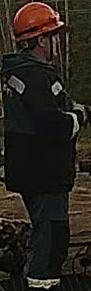gloves: (72, 99, 87, 129)
helmet: (11, 1, 64, 42)
vest: (0, 55, 78, 193)
